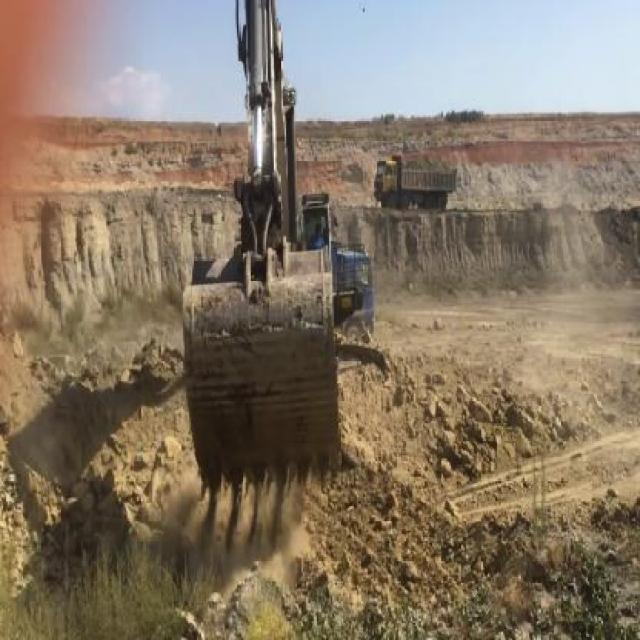dump_truck: (374, 148, 458, 210)
excavator: (174, 0, 366, 502)
